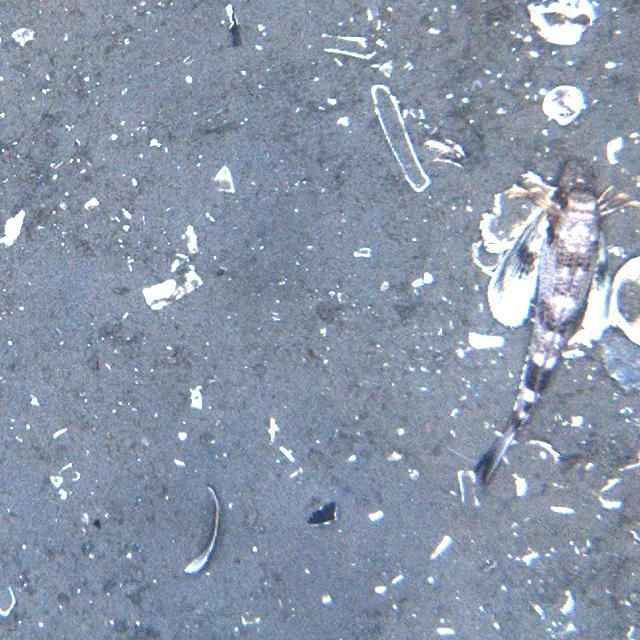roundfish: (497, 154, 628, 502)
